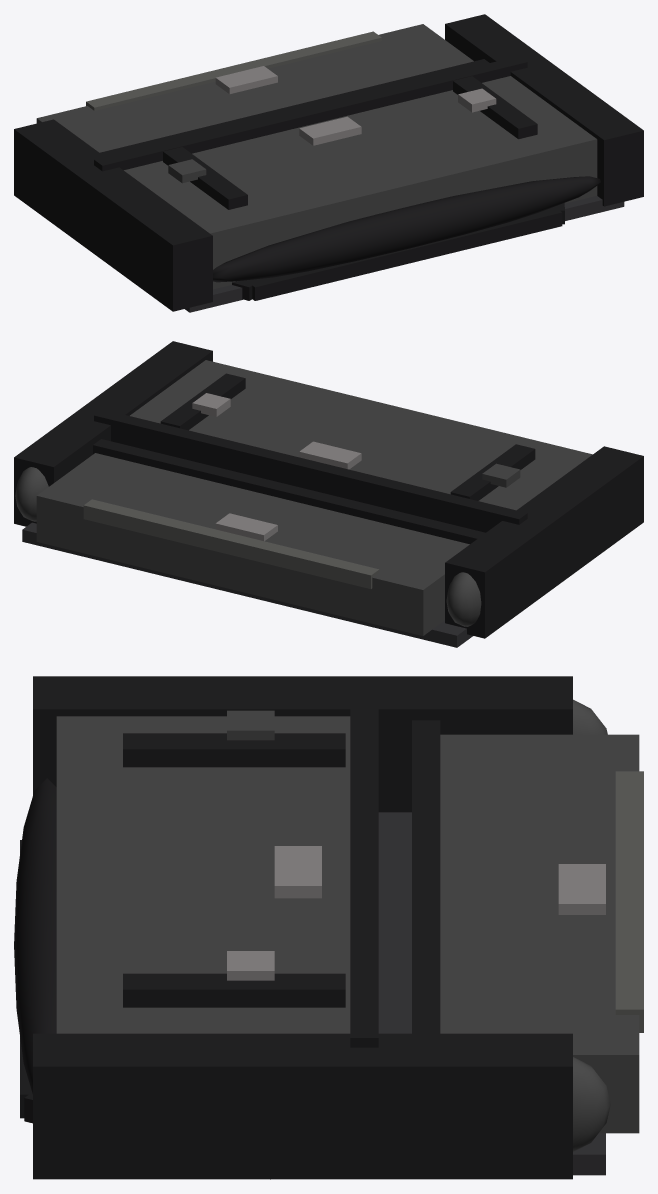
The model's file is CMU3DAU14SlingSatchelBlackWorldCloud.glb.
3 views of the same model, one above another, from view 1: azimuth 30°, elevation 25°; view 2: azimuth 150°, elevation 25°; view 3: azimuth 270°, elevation 25° (orthographic). The views are drawn at different scales.
Visible parts, largest first — view 1: front leather body, left attached side gusset, upper folded body panel, lower sewn body edge, right attached side gusset, front mouth sewn lip, attached folded rear sling center, upper fine seam, rear mouth sewn edge, vertical short securing strap 21.65, vertical short securing strap 9.65, bag recessed continuous floor (+4 smaller); view 2: upper folded body panel, front leather body, left attached side gusset, front mouth sewn lip, right attached side gusset, upper fine seam, rear mouth sewn edge, bag recessed continuous floor, vertical short securing strap 9.65, vertical short securing strap 21.65, left upper rounded corner, right upper rounded corner (+4 smaller); view 3: right attached side gusset, front leather body, upper folded body panel, left attached side gusset, front mouth sewn lip, lower sewn body edge, rear mouth sewn edge, bag recessed continuous floor, vertical short securing strap 9.65, vertical short securing strap 21.65, upper fine seam, right upper rounded corner (+5 smaller).
Part boxes in pixels (x1,y1,x2,y2): front leather body: [124, 76, 597, 289]; left attached side gusset: [14, 119, 212, 311]; upper folded body panel: [36, 24, 473, 152]; lower sewn body edge: [213, 176, 600, 282]; right attached side gusset: [445, 14, 643, 206]; front mouth sewn lip: [94, 56, 527, 171]; attached folded rear sling center: [249, 206, 562, 300]; upper fine seam: [86, 31, 381, 110]; rear mouth sewn edge: [100, 59, 489, 156]; vertical short securing strap 21.65: [453, 76, 537, 139]; vertical short securing strap 9.65: [163, 147, 247, 209]; bag recessed continuous floor: [185, 196, 624, 312]; upper folded body panel: [36, 453, 469, 635]; front leather body: [130, 360, 592, 510]; left attached side gusset: [445, 446, 643, 638]; front mouth sewn lip: [94, 409, 527, 532]; right attached side gusset: [14, 341, 212, 526]; upper fine seam: [83, 499, 379, 588]; rear mouth sewn edge: [93, 439, 485, 544]; bag recessed continuous floor: [22, 522, 472, 647]; vertical short securing strap 9.65: [450, 444, 535, 500]; vertical short securing strap 21.65: [160, 373, 245, 430]; left upper rounded corner: [446, 572, 481, 626]; right upper rounded corner: [15, 467, 48, 521]; right attached side gusset: [33, 1033, 572, 1179]; front leather body: [56, 716, 350, 1033]; upper folded body panel: [440, 734, 639, 1133]; left attached side gusset: [33, 676, 572, 812]; front mouth sewn lip: [350, 685, 378, 1047]; lower sewn body edge: [14, 778, 56, 1093]; rear mouth sewn edge: [412, 720, 440, 1033]; bag recessed continuous floor: [378, 812, 605, 1175]; vertical short securing strap 9.65: [123, 733, 345, 767]; vertical short securing strap 21.65: [123, 973, 345, 1007]; upper fine seam: [615, 771, 643, 1032]; right upper rounded corner: [573, 1057, 610, 1151].
Bounding box in the file's own units: 0.6094 × 0.105 × 0.4156.
8 materials, 4 textured.
